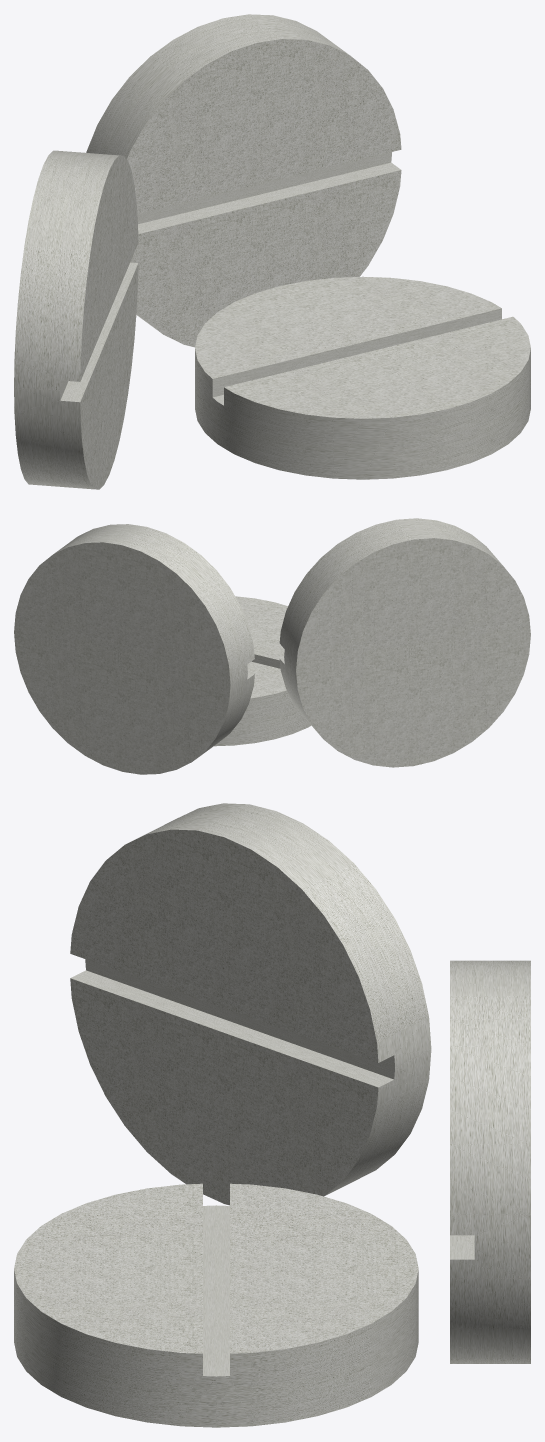
The model's file is aspirin.fbx.
The picture shows the model from 3 angles, top to bottom: view 1: azimuth 30°, elevation 25°; view 2: azimuth 150°, elevation 25°; view 3: azimuth 270°, elevation 25°; orthographic projection. The views are drawn at different scales.
Parts seen in each view (by area): view 1: aperin_1, aperin, aperin_2; view 2: aperin_2, aperin_1, aperin; view 3: aperin_2, aperin, aperin_1.
Part boxes in pixels (left/top/right/bottom): aperin_1: left=86, top=14, right=401, bottom=347; aperin: left=195, top=276, right=530, bottom=479; aperin_2: left=14, top=150, right=138, bottom=489; aperin_2: left=279, top=518, right=530, bottom=767; aperin_1: left=14, top=524, right=254, bottom=774; aperin: left=214, top=596, right=310, bottom=746; aperin_2: left=70, top=803, right=431, bottom=1205; aperin: left=14, top=1183, right=418, bottom=1427; aperin_1: left=450, top=960, right=530, bottom=1363.
Bounding box in the file's own units: 2.75 × 1.5 × 1.92.
Materials: 3 (3 with a texture image).
